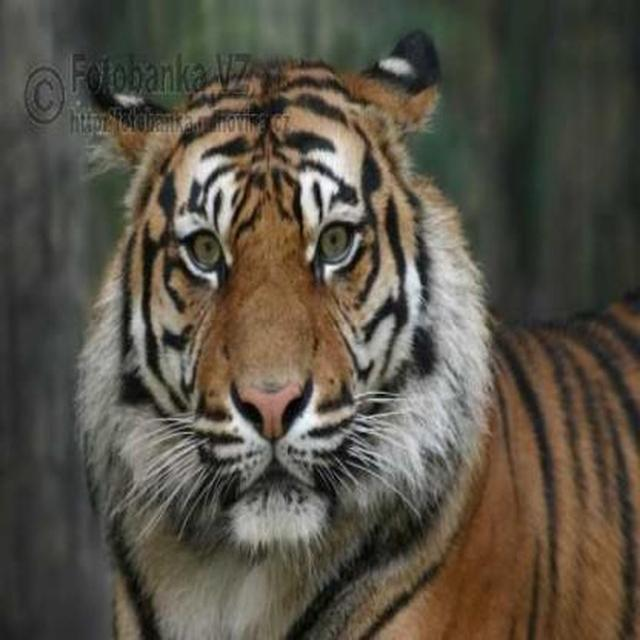tiger: (71, 27, 639, 639)
